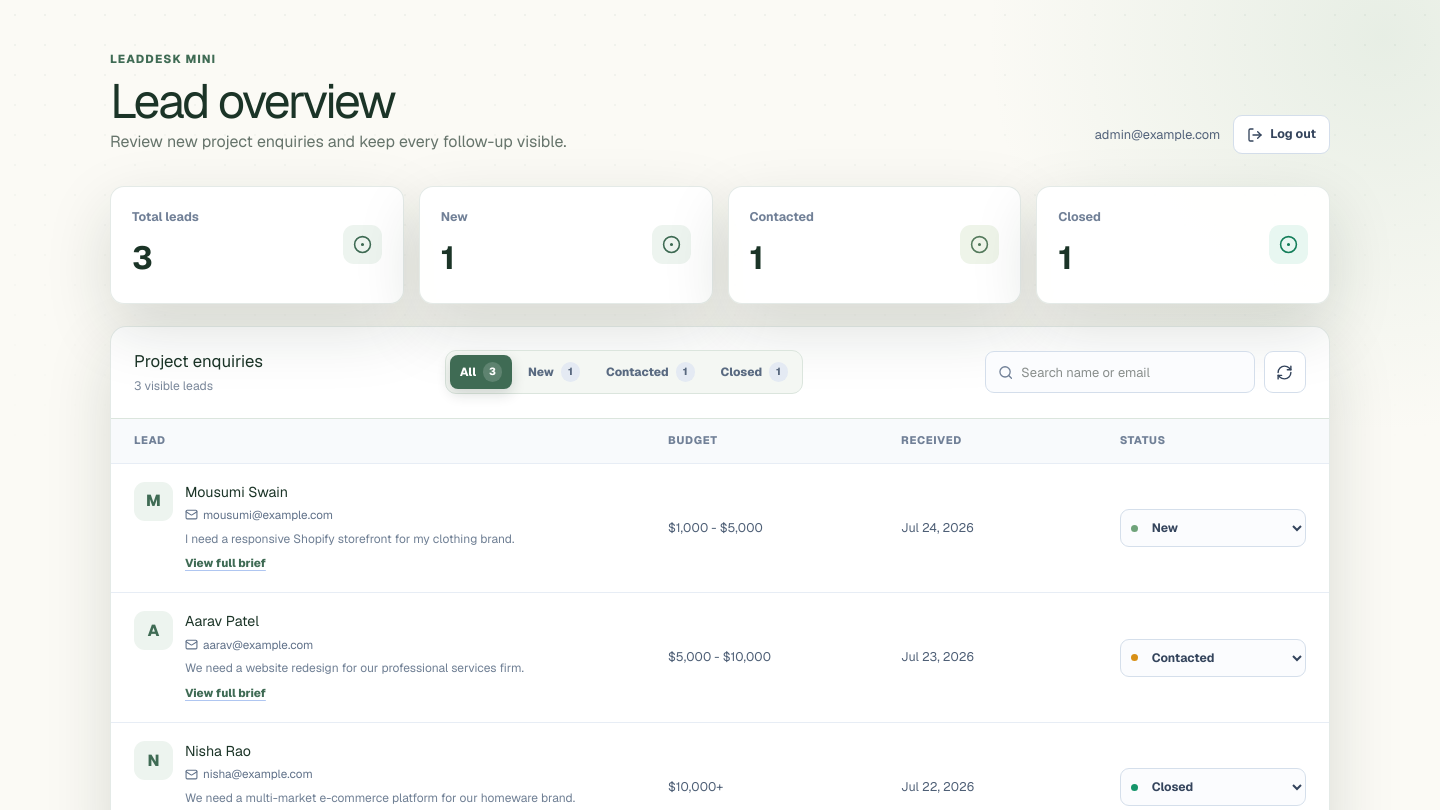
Test: AdminDashboard › filters leads by status
This screenshot has width=1440, height=810.
Expected: the heading "Mousumi Swain" is shown, left=185, top=483, right=288, bottom=501
Click the button "Closed 1": (754, 372) left=711, top=355, right=798, bottom=389
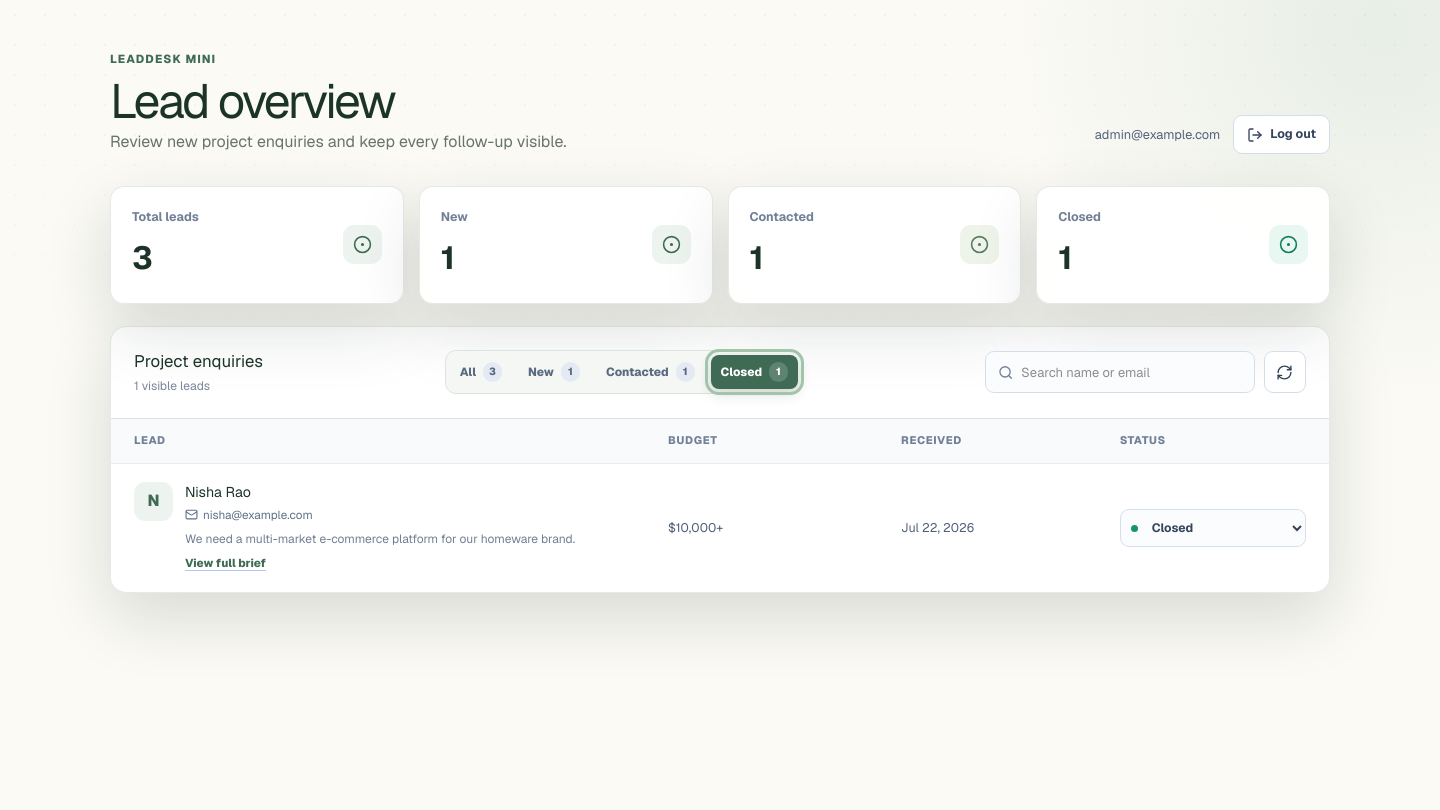
Expected: the heading "Nisha Rao" is shown, left=185, top=483, right=251, bottom=501
Expected: the heading "Mousumi Swain" is gone
Expected: the heading "Aarav Patel" is gone
